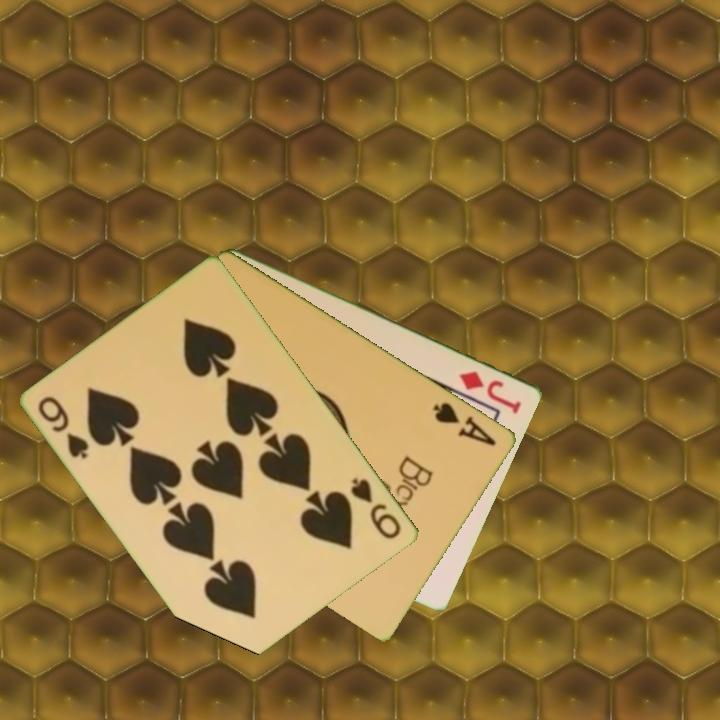9s: (35, 392, 93, 462), (347, 474, 405, 542)
As: (429, 398, 500, 449)
Jd: (456, 366, 525, 417)
